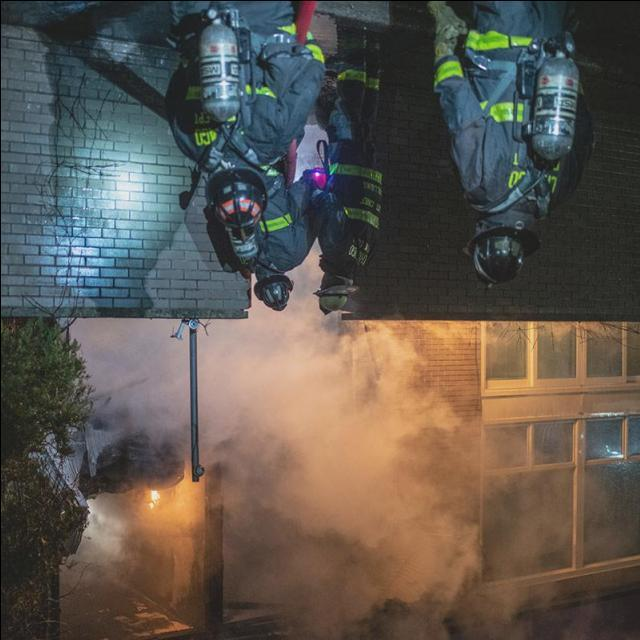Fire: (146, 490, 164, 508)
